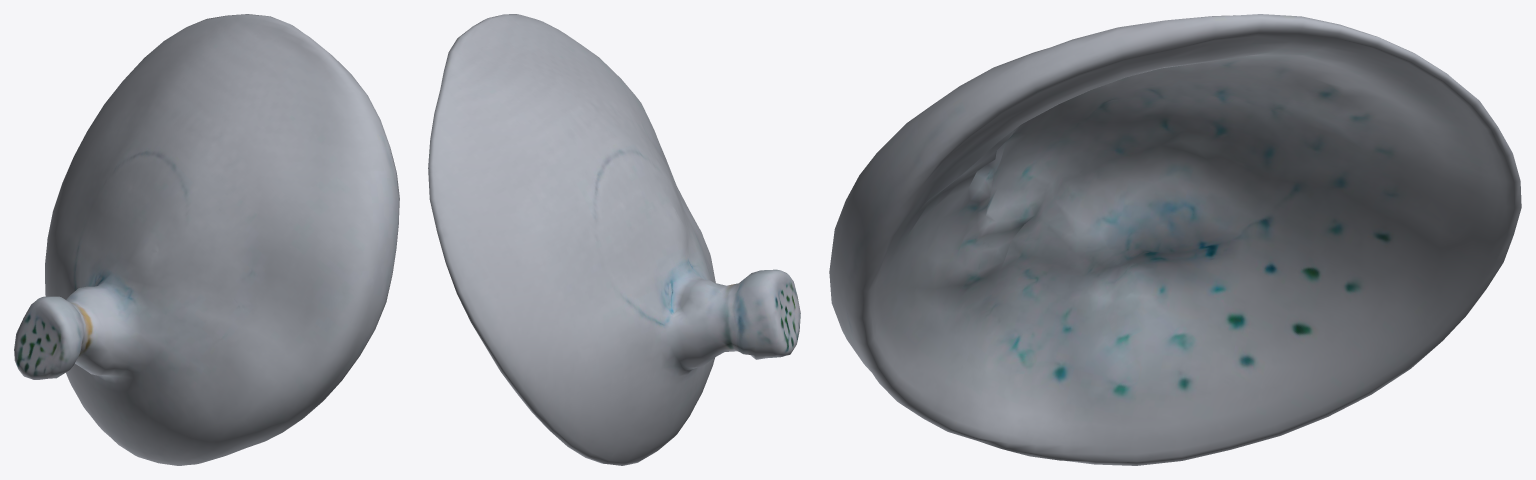
File: 092e68ee81e5_shower_head__3d_ass.fbx
3 renders of one model, left to right at view 1: azimuth 30°, elevation 25°; view 2: azimuth 150°, elevation 25°; view 3: azimuth 270°, elevation 25°, orthographic. The views are drawn at different scales.
Parts seen in each view (by area): view 1: mesh; view 2: mesh; view 3: mesh.
Boxes of the visible parts, x1=… form: mesh: x1=14, y1=14, x2=399, y2=465; mesh: x1=428, y1=14, x2=800, y2=465; mesh: x1=829, y1=14, x2=1521, y2=465.
Size of the model in its own units: 79.87 by 90.72 by 99.57.
